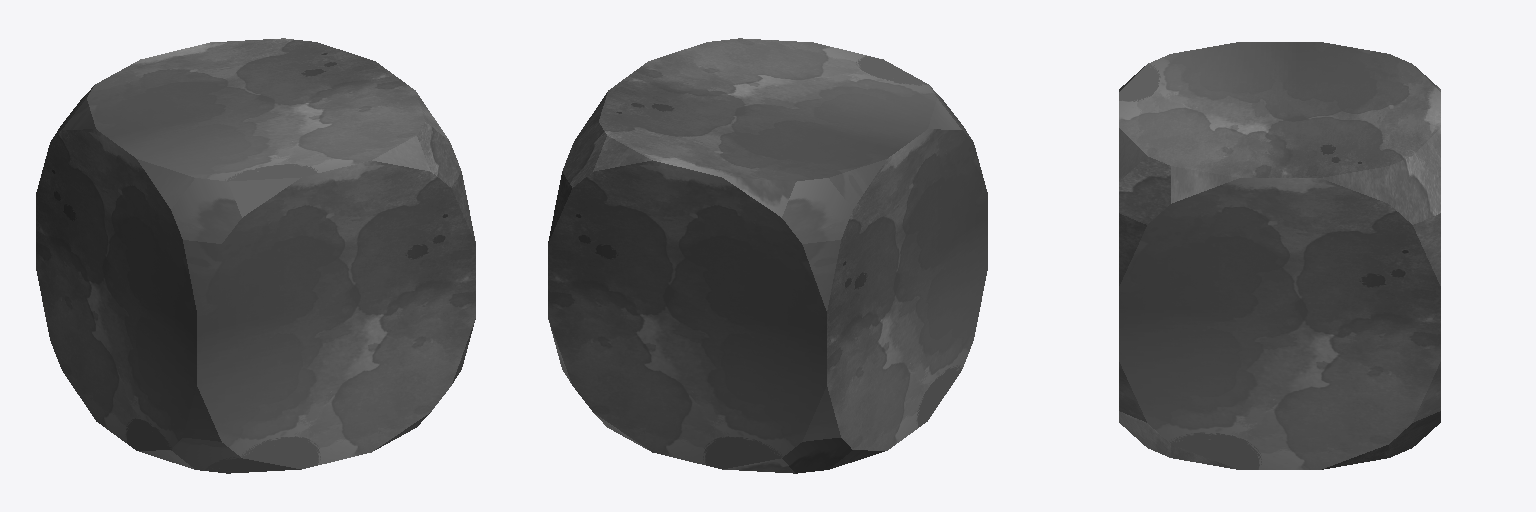
3 renders of one model, left to right at view 1: azimuth 30°, elevation 25°; view 2: azimuth 150°, elevation 25°; view 3: azimuth 270°, elevation 25°, orthographic.
Parts seen in each view (by area): view 1: Cube; view 2: Cube; view 3: Cube.
Boxes of the visible parts, box(x1,y1,x2,y2) form: Cube: box(36, 38, 475, 473); Cube: box(548, 38, 987, 473); Cube: box(1119, 42, 1440, 469).
Bounding box in the file's own units: 2 × 2 × 2.
1 materials, 1 textured.